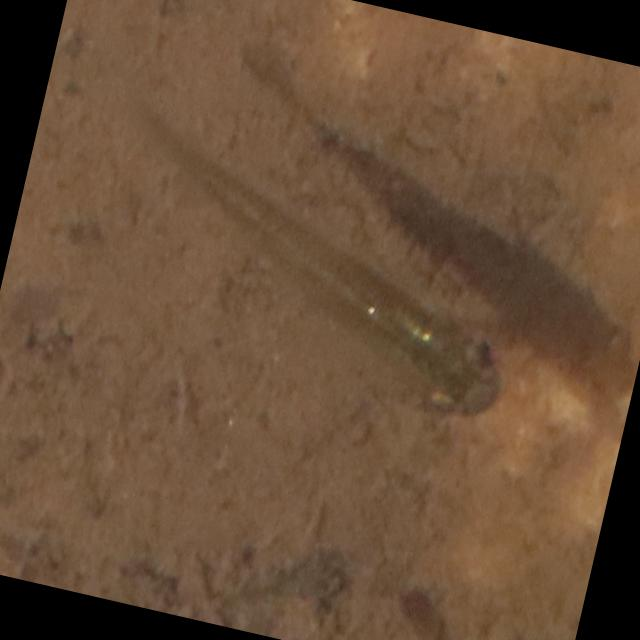Sivrisinek Baligi: (63, 84, 547, 454)
